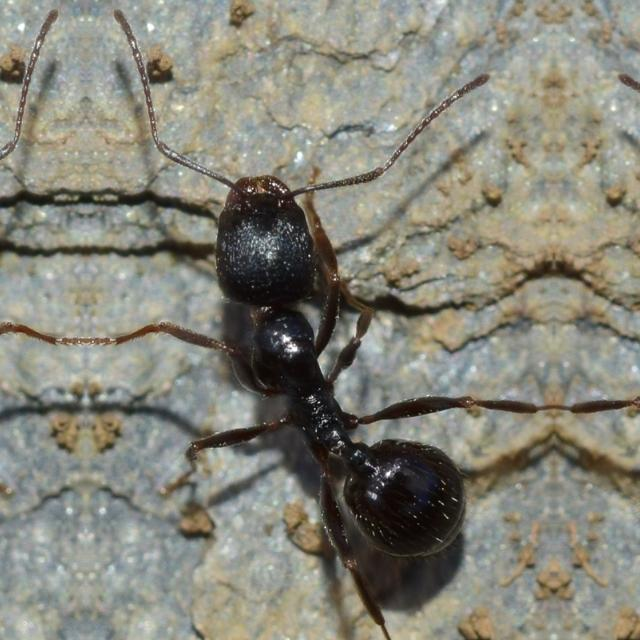Apheanogaster: (159, 112, 503, 624)
